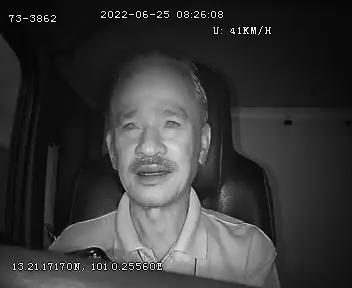PhoneUse: (41, 235, 122, 272)
